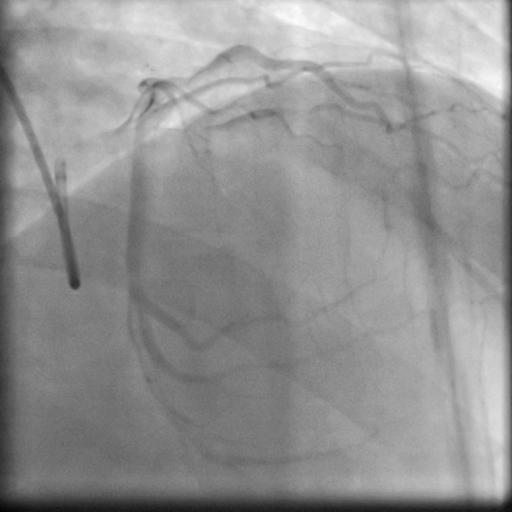Stenosis: (160, 64, 200, 90)
